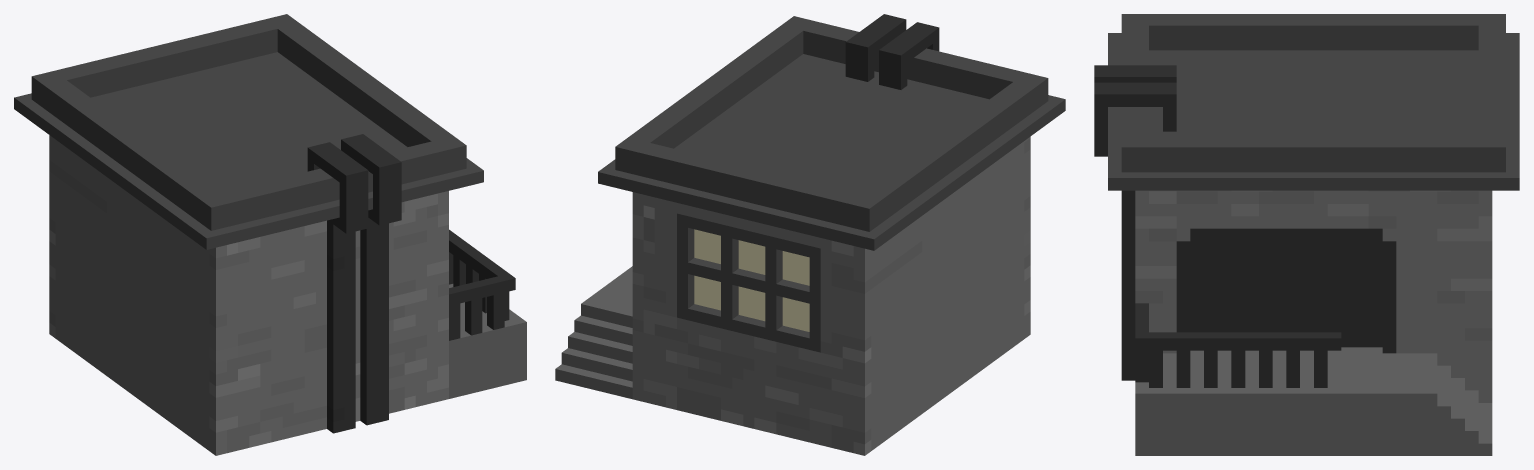
The model's file is casamilitar2.obj.
3 renders of one model, left to right at view 1: azimuth 30°, elevation 25°; view 2: azimuth 150°, elevation 25°; view 3: azimuth 270°, elevation 25°, orthographic. The views are drawn at different scales.
Bounding box in the file's own units: 3 × 2.3 × 3.1.
Materials: 1 (1 with a texture image).
